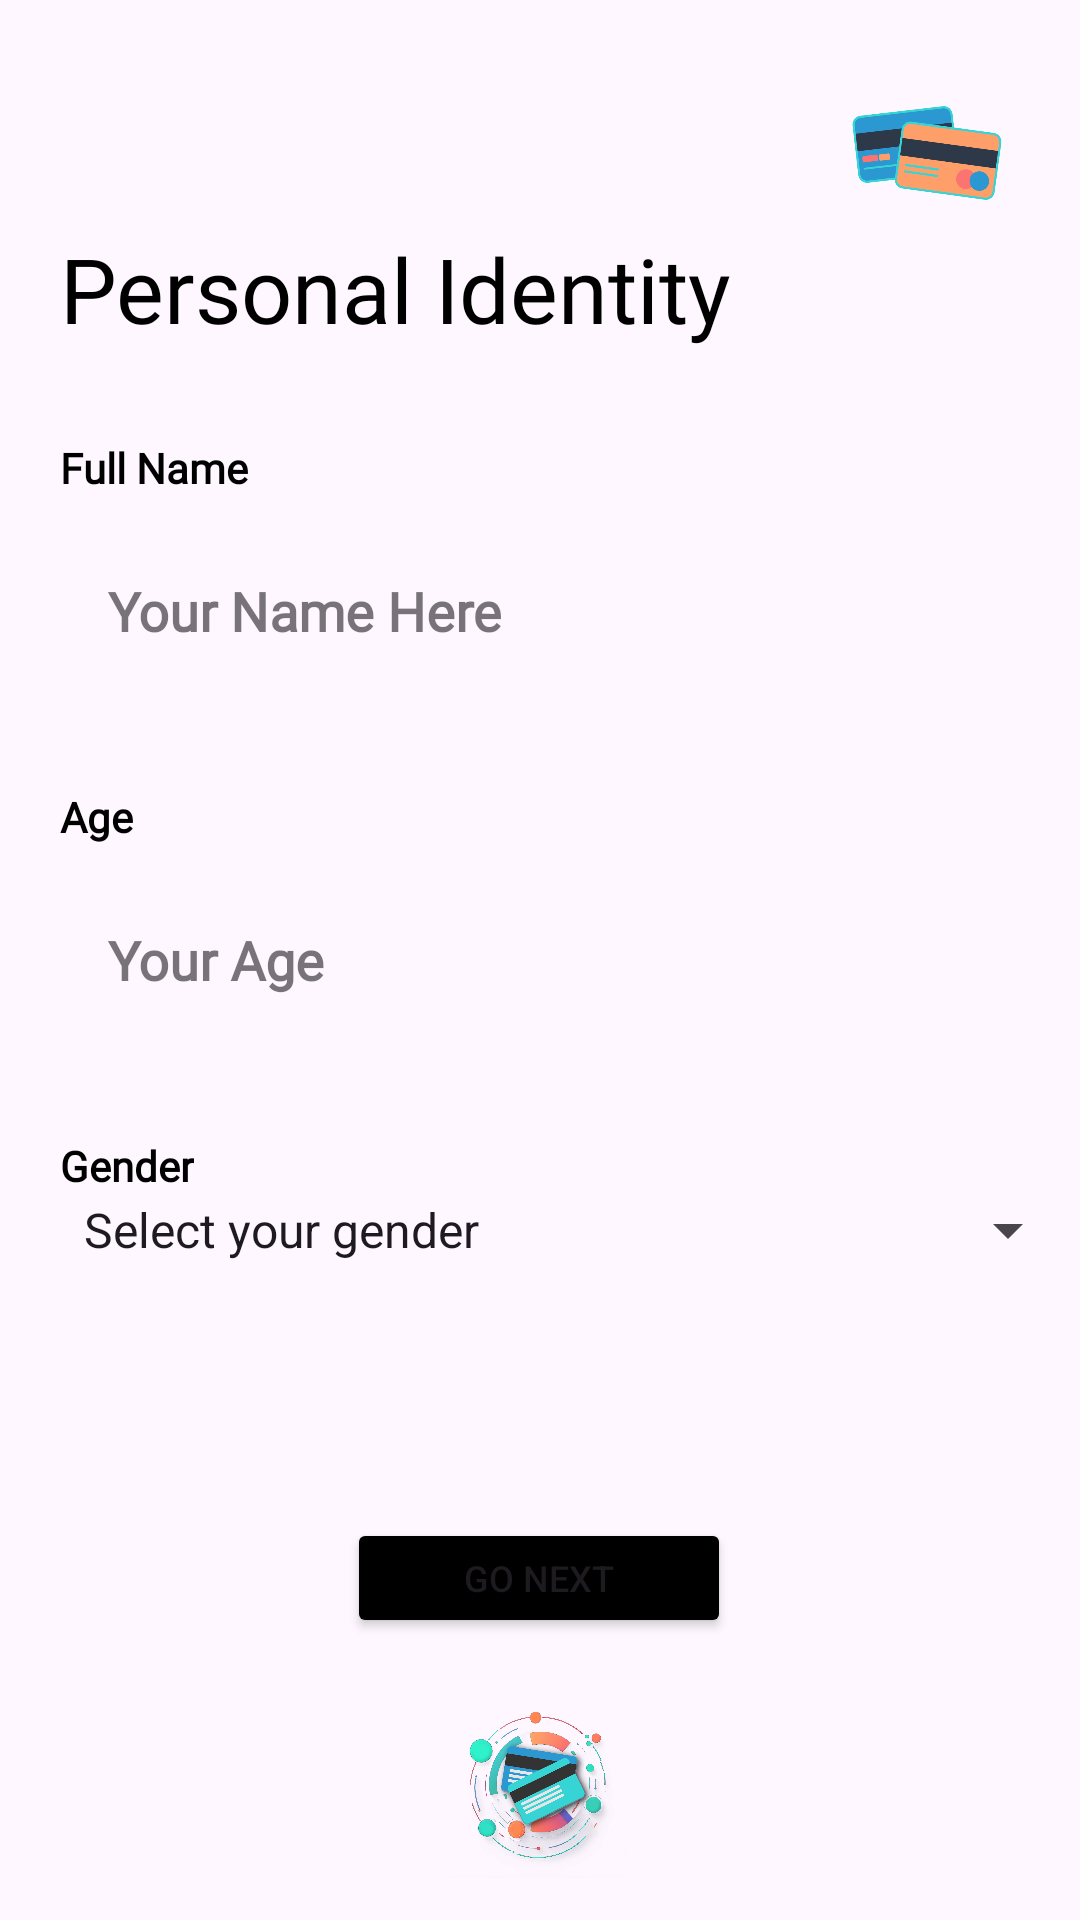

Where to tap for icons on this 1080w x 1920h app screen, as [x,y]:
credit card: [927,153]
